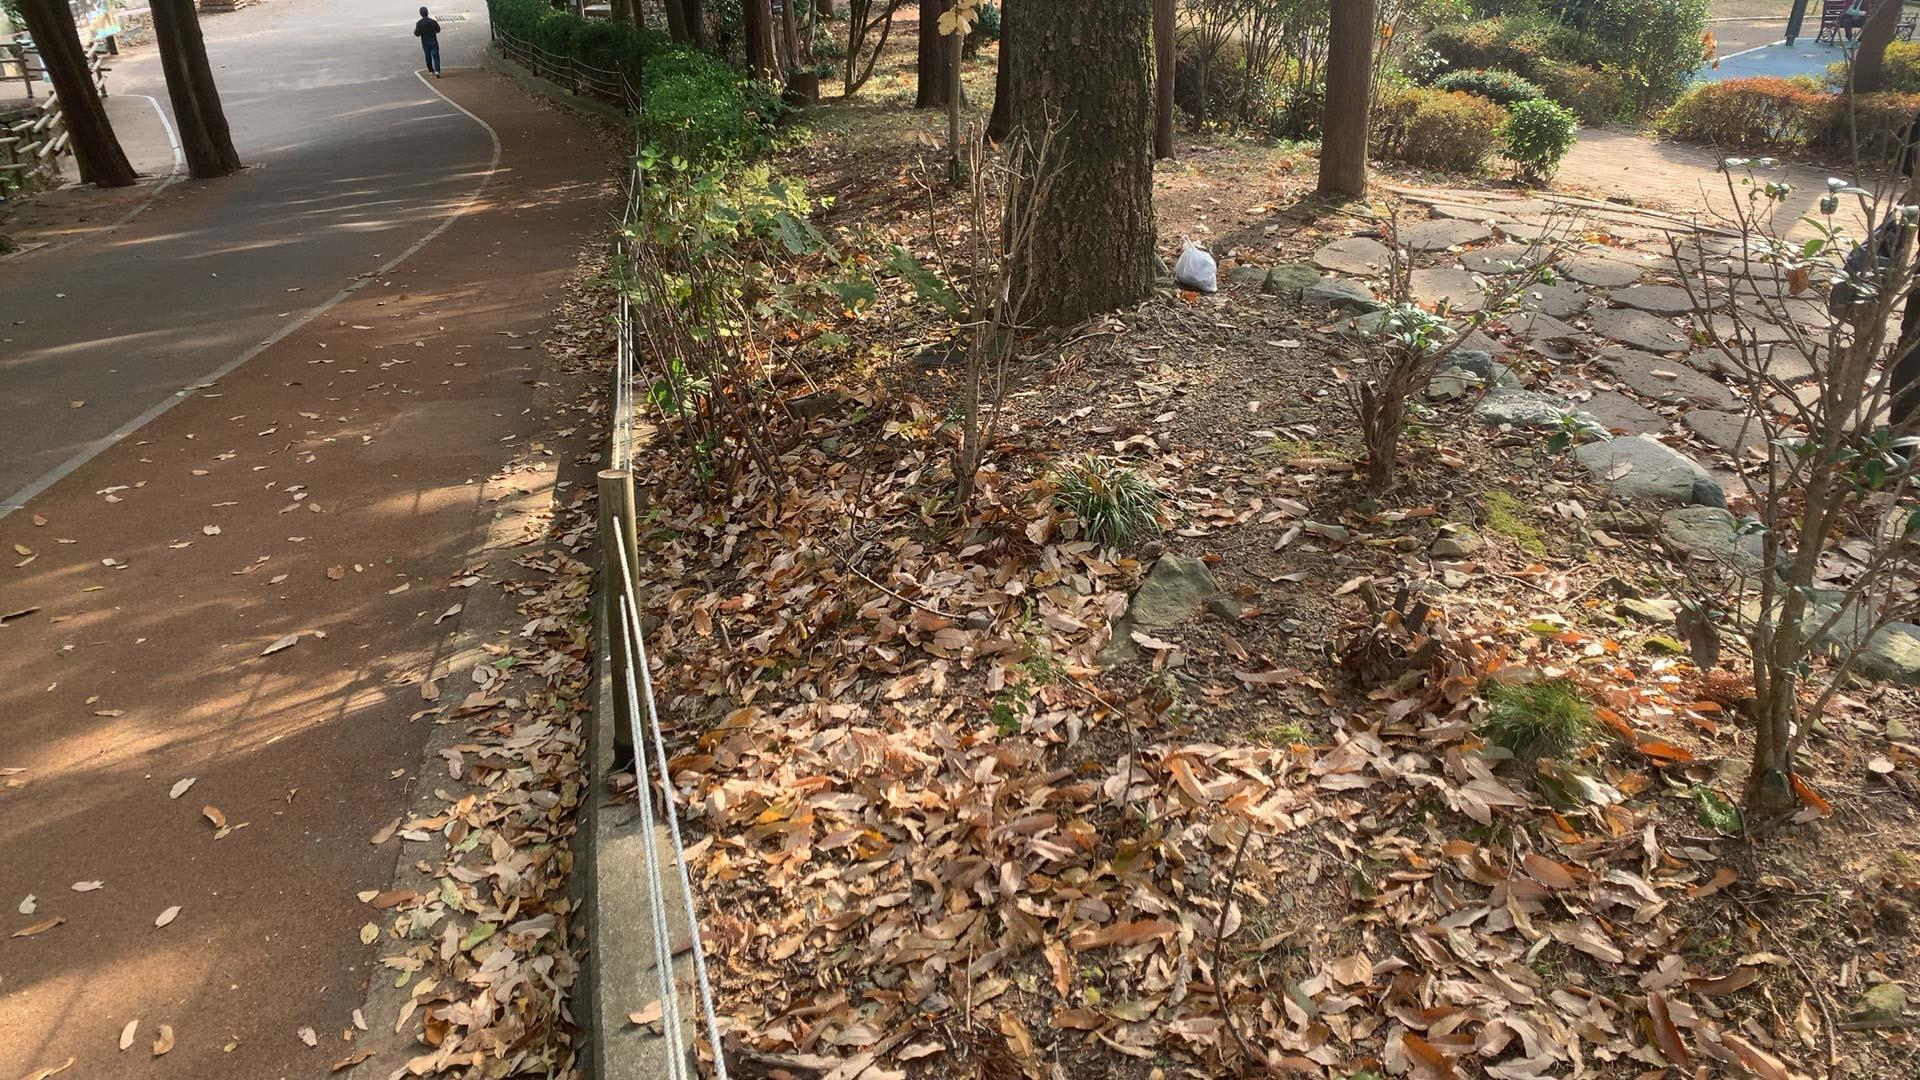white_bag: (1171, 231, 1222, 295)
